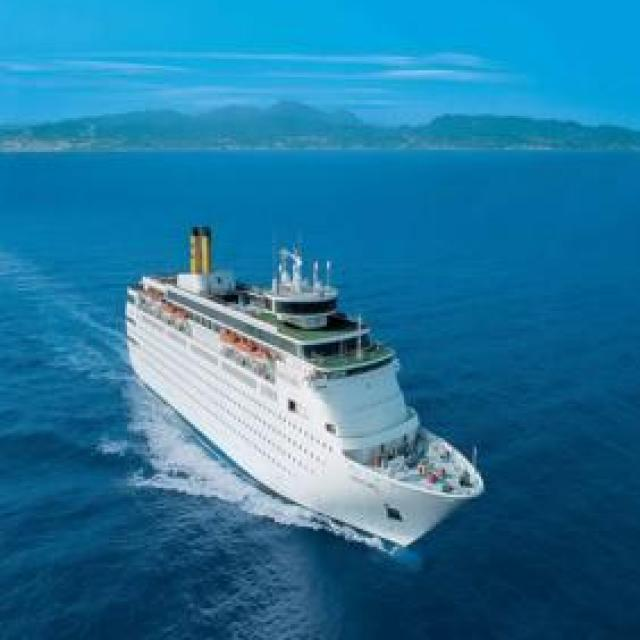passenger ship: (122, 222, 486, 557)
